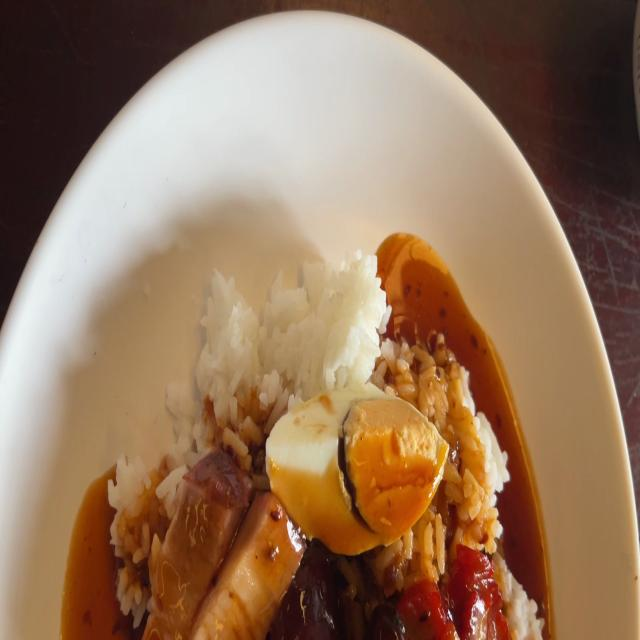01boiled_egg: (267, 388, 444, 544)
01chainese_sausage: (296, 548, 402, 640)
01crispy_pork: (148, 456, 294, 640)
01red_pork: (411, 540, 511, 640)
01red_pork_and_crispy_pork: (109, 253, 545, 640)
01rice: (189, 255, 387, 385)
